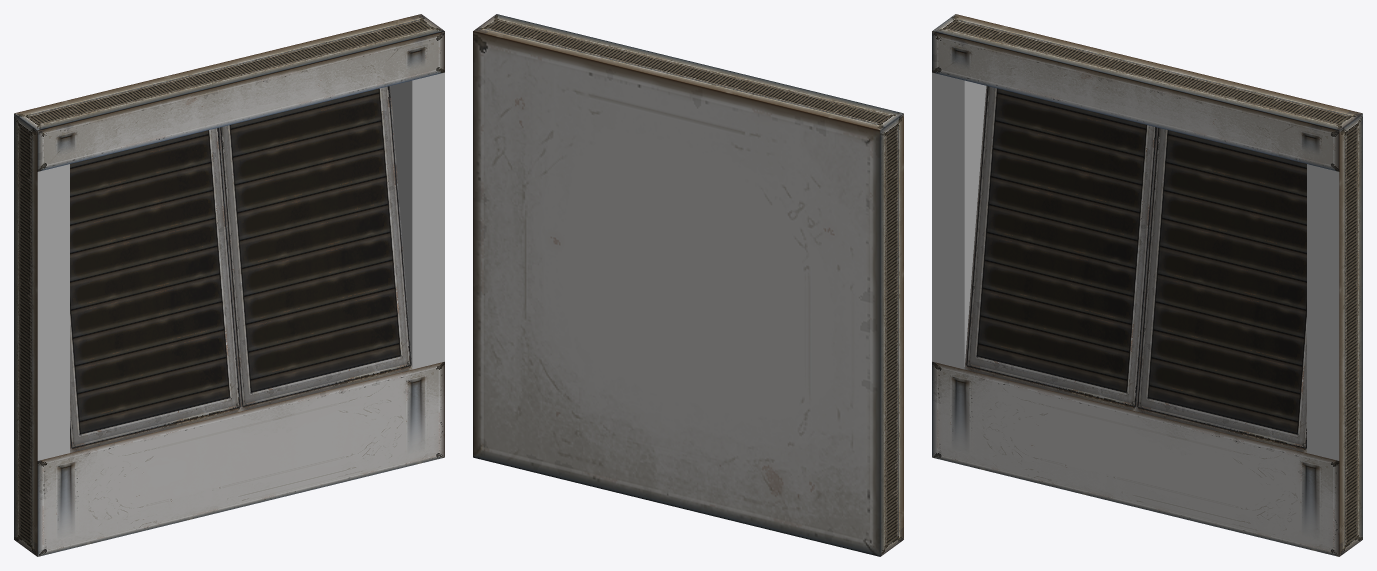
File: scifi_wall5_1.FBX
3 views of the same model, side by side, from view 1: azimuth 30°, elevation 25°; view 2: azimuth 150°, elevation 25°; view 3: azimuth 330°, elevation 25° (orthographic).
Visible parts, largest first — view 1: Plane026; view 2: Plane026; view 3: Plane026.
Part boxes in pixels (x1,y1,x2,y2): Plane026: [14, 14, 444, 556]; Plane026: [473, 14, 903, 556]; Plane026: [932, 14, 1362, 556].
Bounding box in the file's own units: 254 × 254 × 25.4.
